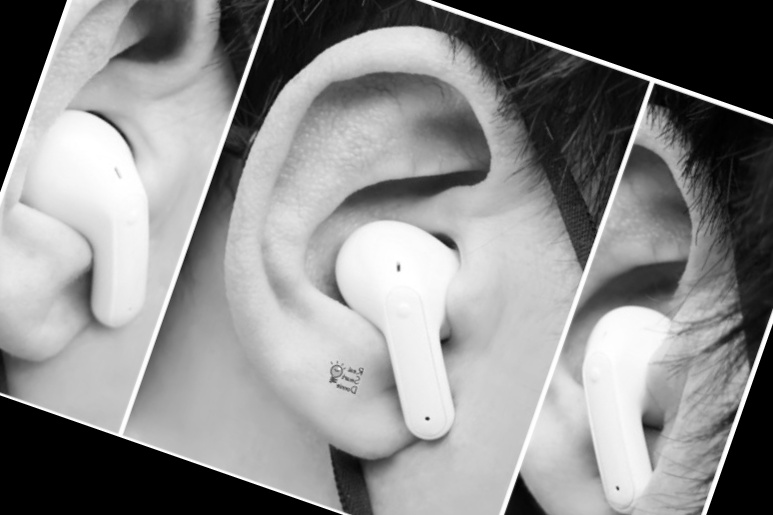earphone: (163, 0, 576, 485), (504, 100, 768, 515), (0, 0, 249, 386)
